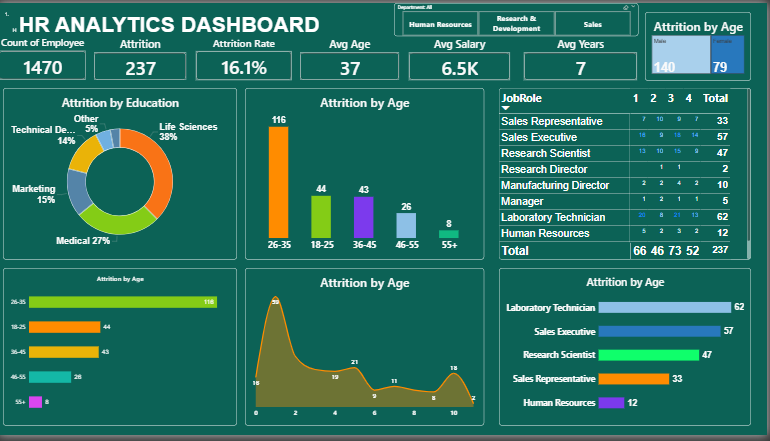

Layout of this report page (visuals, bound fields, positions):
{"tool":"powerbi","page":{"name":"Page 1","canvas":[1920,1080],"ordinal":0},"visuals":[{"type":"cardVisual","title":"Count of Employee","fields":{"Data":["CountNonNull(hr analystics.EmpID)"]},"box":[0,83.1,217.2,109.9],"z":0},{"type":"cardVisual","title":"Avg Age","fields":{"Data":["Avg(hr analystics.Age)"]},"box":[751.7,82.1,248.4,110.2],"z":1000},{"type":"cardVisual","title":"Attrition","fields":{"Data":["hr analystics.Attrition_Count"]},"box":[237.6,82.1,231.1,110.2],"z":2000},{"type":"cardVisual","title":"Attrition Rate","fields":{"Data":["hr analystics.Attrition Rate"]},"box":[492.5,82.1,239.8,110.2],"z":3000},{"type":"cardVisual","title":"Avg Salary","fields":{"Data":["Avg(hr analystics.MonthlyIncome)"]},"box":[1026,82.1,252.7,110.2],"z":4000},{"type":"cardVisual","title":"Avg Years","fields":{"Data":["Avg(hr analystics.YearsAtCompany)"]},"box":[1313.3,82.1,283,110.2],"z":5000},{"type":"donutChart","title":"Attrition by Education","fields":{"Category":["hr analystics.EducationField"],"Y":["hr analystics.Attrition_Count"]},"box":[10.7,211.8,584.6,429.1],"z":6000},{"type":"columnChart","title":"Attrition by Age","fields":{"Category":["hr analystics.AgeGroup"],"Y":["hr analystics.Attrition_Count"]},"box":[614.1,211.8,598,429.1],"z":7000},{"type":"pivotTable","fields":{"Columns":["hr analystics.JobSatisfaction"],"Rows":["hr analystics.JobRole"],"Values":["hr analystics.Attrition_Count"]},"box":[1249.6,211.8,630.2,429.1],"z":8000},{"type":"barChart","title":"Attrition by Age","fields":{"Category":["hr analystics.AgeGroup"],"Y":["hr analystics.Attrition_Count"]},"box":[10.7,662.3,584.6,394.2],"z":9000},{"type":"barChart","title":"Attrition by Age","fields":{"Category":["hr analystics.JobRole"],"Y":["hr analystics.Attrition_Count"]},"box":[1249.6,662.3,630.2,394.2],"z":10000},{"type":"areaChart","title":"Attrition by Age","fields":{"Category":["hr analystics.YearsAtCompany"],"Y":["hr analystics.Attrition_Count"]},"box":[614.1,662.3,598,394.2],"z":11000},{"type":"treemap","title":"Attrition by Age","fields":{"Group":["hr analystics.Gender"],"Values":["hr analystics.Attrition_Count"]},"box":[1614.3,21.5,265.5,171.6],"z":12000},{"type":"slicer","fields":{"Values":["hr analystics.Department"]},"box":[986.8,0,611.4,83.1],"z":13000},{"type":"textbox","box":[10.7,21.5,866.1,61.7],"z":14000}]}

Visuals, with their boxes in screenshot pixels (x1, y1, x2, y2), scaled from the page's 1920x1080 canvas onto the 770x441 screenshot:
"Count of Employee" cardVisual: 0:34:87:79
"Avg Age" cardVisual: 301:34:401:79
"Attrition" cardVisual: 95:34:188:79
"Attrition Rate" cardVisual: 198:34:294:79
"Avg Salary" cardVisual: 411:34:513:79
"Avg Years" cardVisual: 527:34:640:79
"Attrition by Education" donutChart: 4:86:239:262
"Attrition by Age" columnChart: 246:86:486:262
pivotTable - hr analystics.JobSatisfaction x hr analystics.JobRole: 501:86:754:262
"Attrition by Age" barChart: 4:270:239:431
"Attrition by Age" barChart: 501:270:754:431
"Attrition by Age" areaChart: 246:270:486:431
"Attrition by Age" treemap: 647:9:754:79
slicer - hr analystics.Department: 396:0:641:34
textbox: 4:9:352:34
